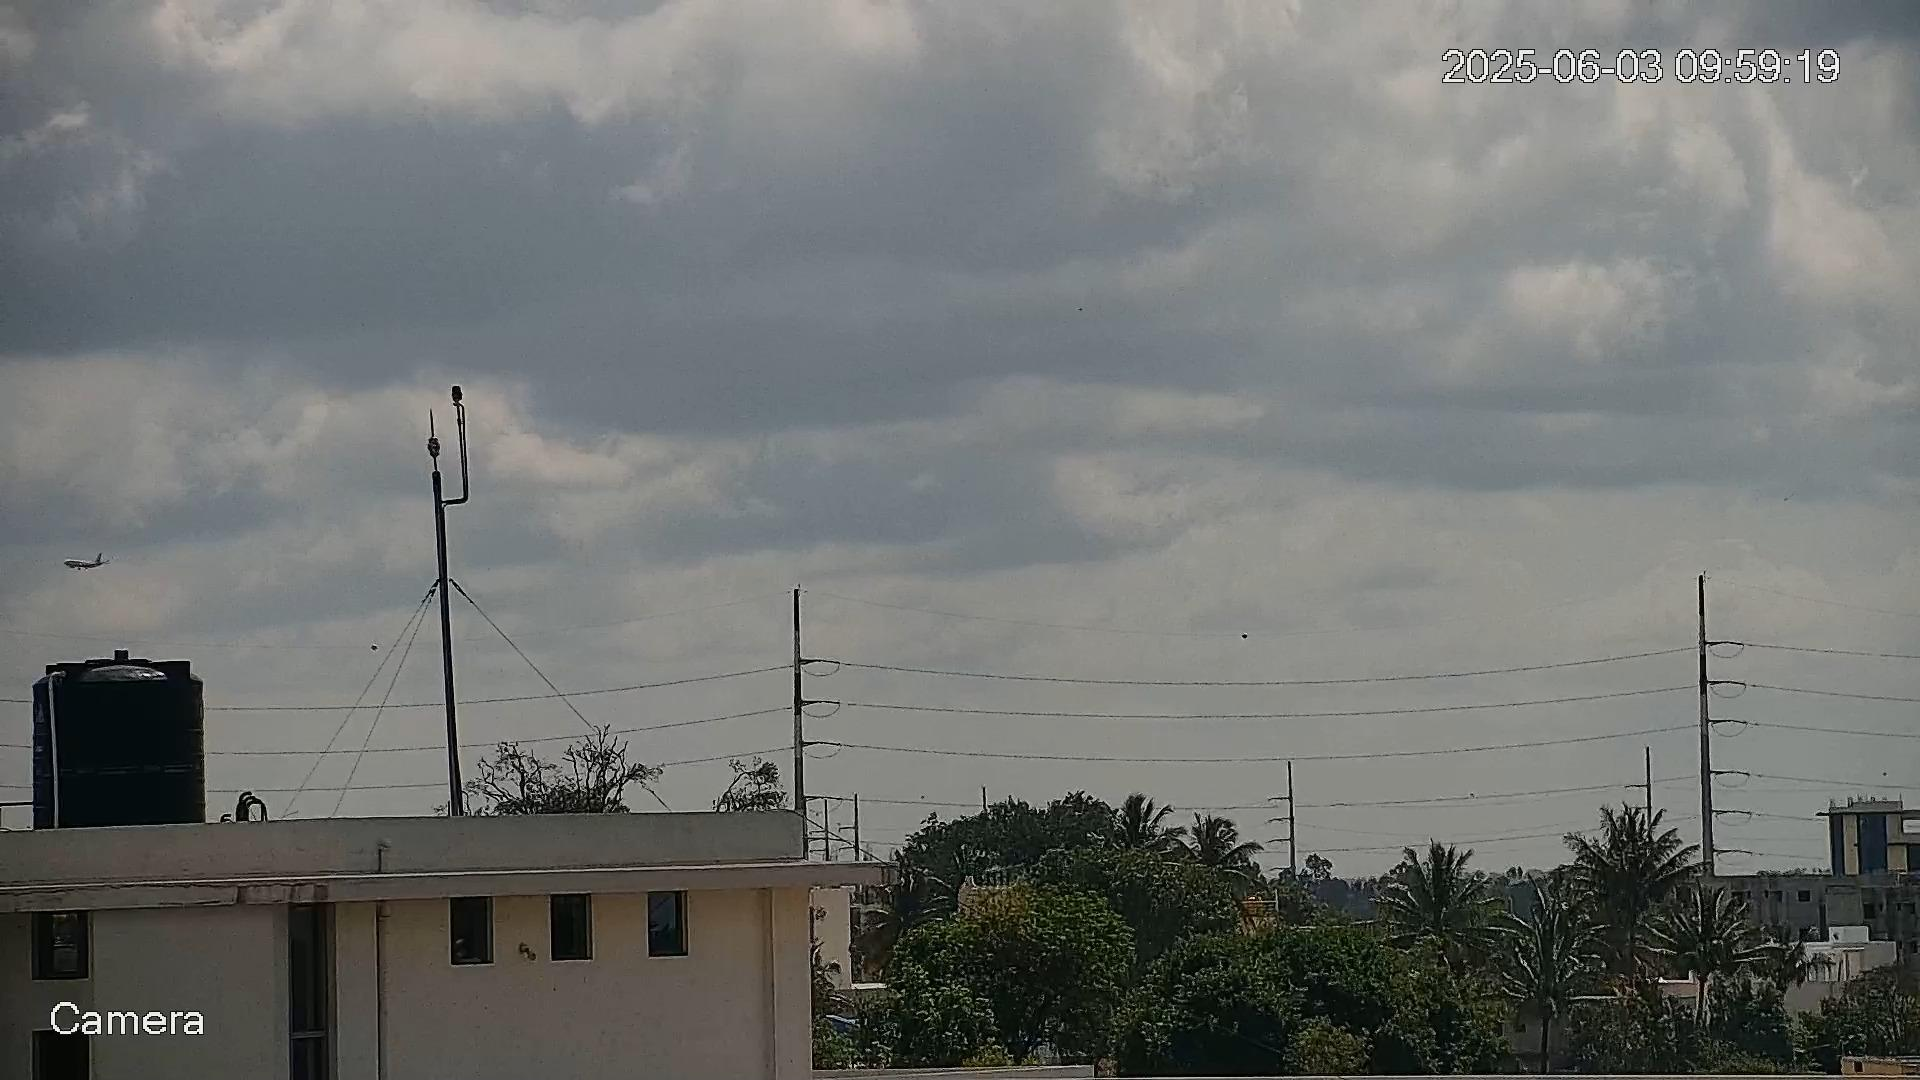Aircraft: (63, 553, 111, 571)
